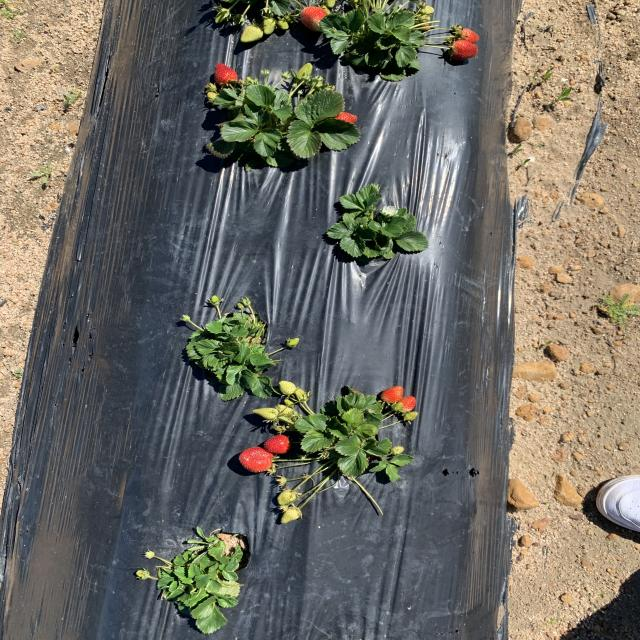unripe: (236, 446, 278, 473), (300, 8, 330, 31), (325, 106, 359, 126), (261, 434, 293, 454), (214, 62, 238, 88), (452, 40, 481, 60), (378, 385, 404, 404), (394, 396, 420, 414), (454, 27, 480, 44)
